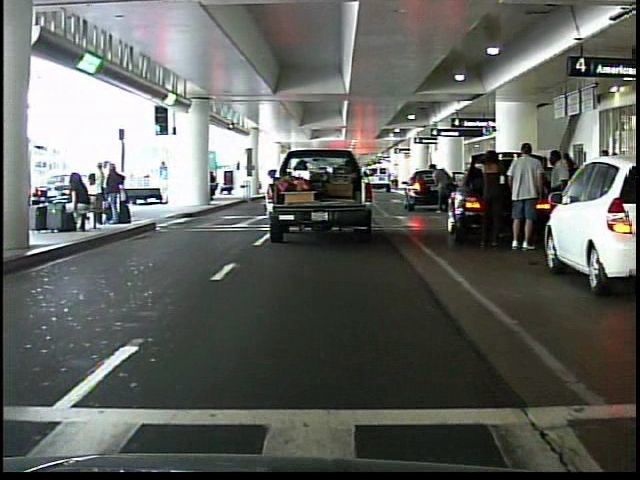person: (504, 139, 544, 252), (471, 139, 509, 254), (542, 144, 574, 254), (426, 157, 453, 218), (156, 159, 172, 204)
